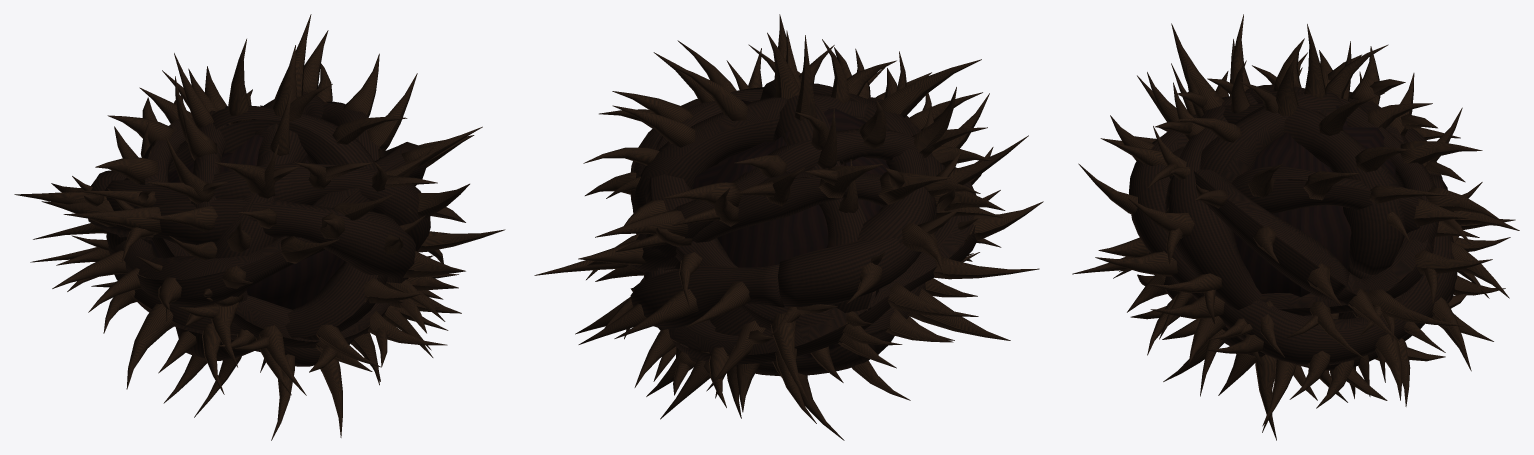
The model's file is Thorn_A_BriarHeart_Detail0.fbx.
3 renders of one model, left to right at view 1: azimuth 30°, elevation 25°; view 2: azimuth 150°, elevation 25°; view 3: azimuth 270°, elevation 25°, orthographic. The views are drawn at different scales.
Parts seen in each view (by area): view 1: ThornSurface; view 2: ThornSurface; view 3: ThornSurface.
Part boxes in pixels (bbox=[...]): ThornSurface: bbox=[14, 14, 505, 440]; ThornSurface: bbox=[534, 14, 1043, 440]; ThornSurface: bbox=[1072, 14, 1519, 440].
Bounding box in the file's own units: 282 × 248 × 273.
